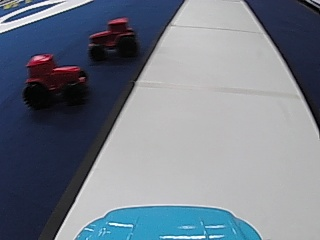Tracktor: (22, 50, 88, 110), (88, 15, 137, 61)
